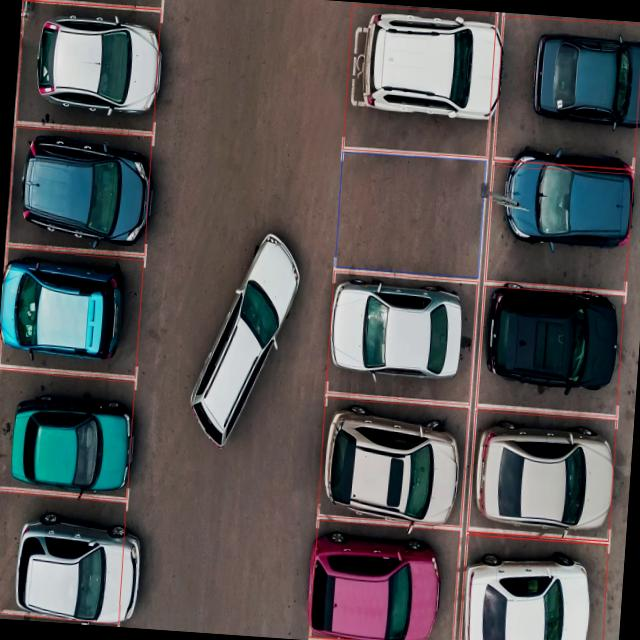car: (486, 147, 638, 291), (318, 395, 470, 528), (474, 282, 624, 416), (326, 271, 479, 402), (466, 408, 616, 540), (493, 14, 640, 148), (8, 124, 154, 254), (350, 1, 501, 126), (306, 520, 462, 640), (0, 245, 143, 374), (19, 0, 163, 127), (0, 368, 135, 499), (0, 491, 125, 626), (456, 532, 610, 640)
free: (334, 148, 488, 279)
